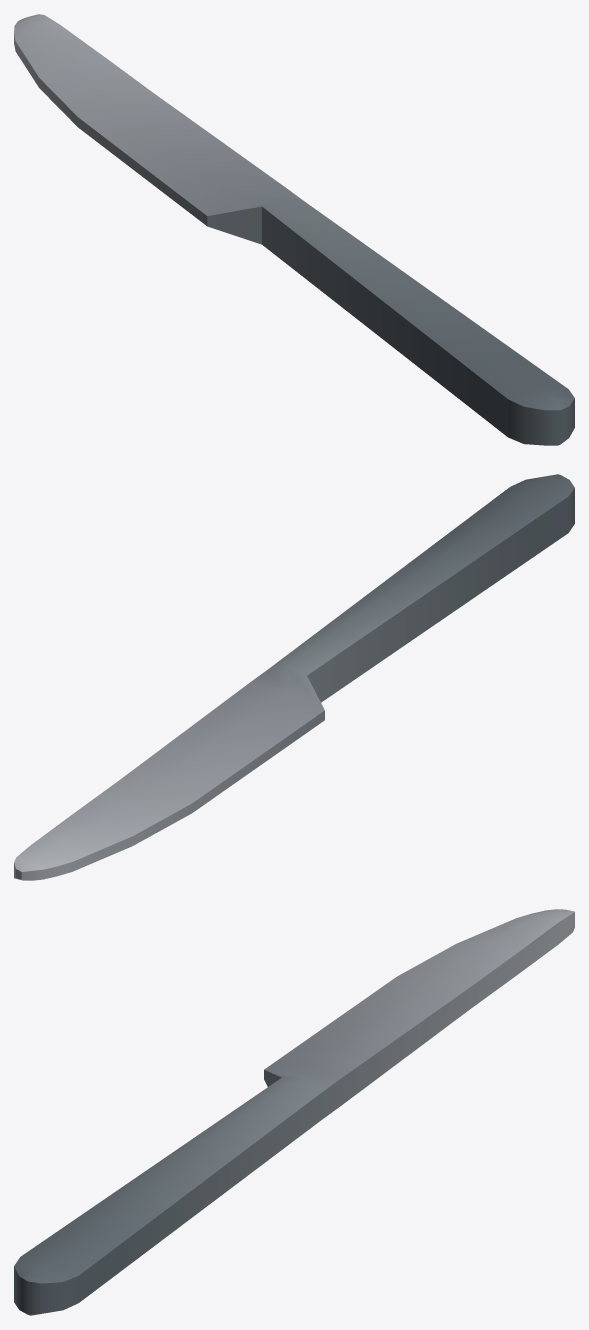
Rendered from Table_knife.fbx.
3 views of the same model, one above another, from view 1: azimuth 30°, elevation 25°; view 2: azimuth 150°, elevation 25°; view 3: azimuth 330°, elevation 25° (orthographic). The views are drawn at different scales.
Visible parts, largest first — view 1: Table_knife; view 2: Table_knife; view 3: Table_knife.
Boxes of the visible parts, bbox=[...] form: Table_knife: bbox=[14, 14, 574, 445]; Table_knife: bbox=[14, 474, 574, 880]; Table_knife: bbox=[14, 909, 574, 1315].
Size of the model in its own units: 6.95 by 78.3 by 3.7.
